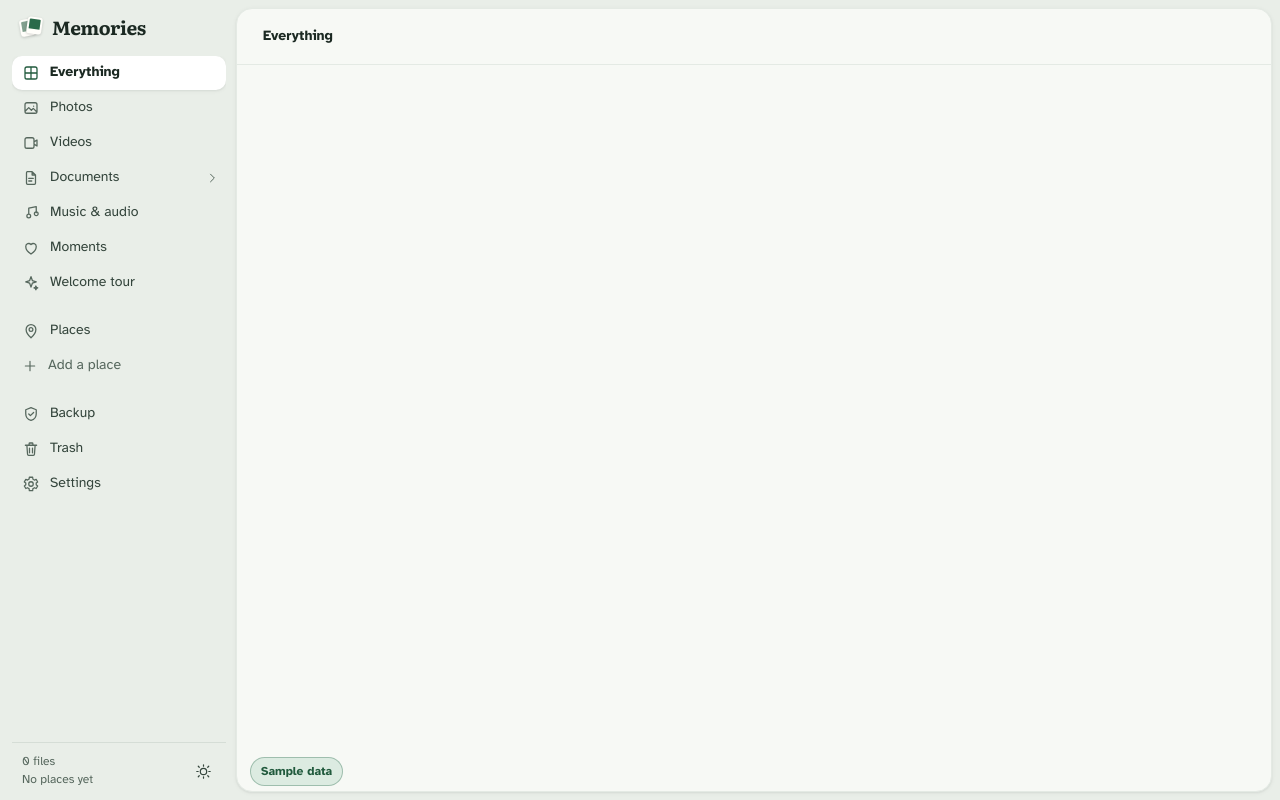
Test: MemoriesApp › flips light and dark from the sidebar
Step 1. Click the button named "Switch to dark" → point(203, 771), box [186,754,220,788]
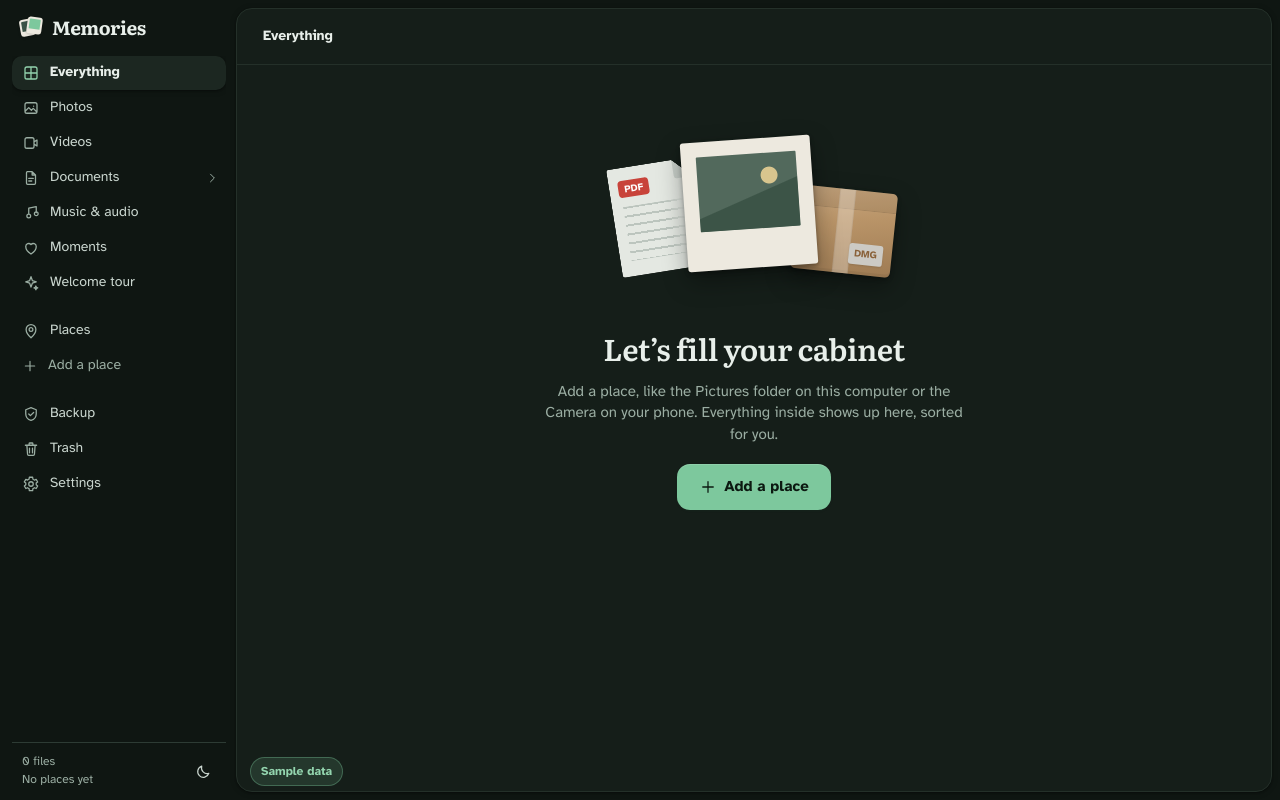
Check: the button named "Switch to light" is shown, box [186,754,220,788]
